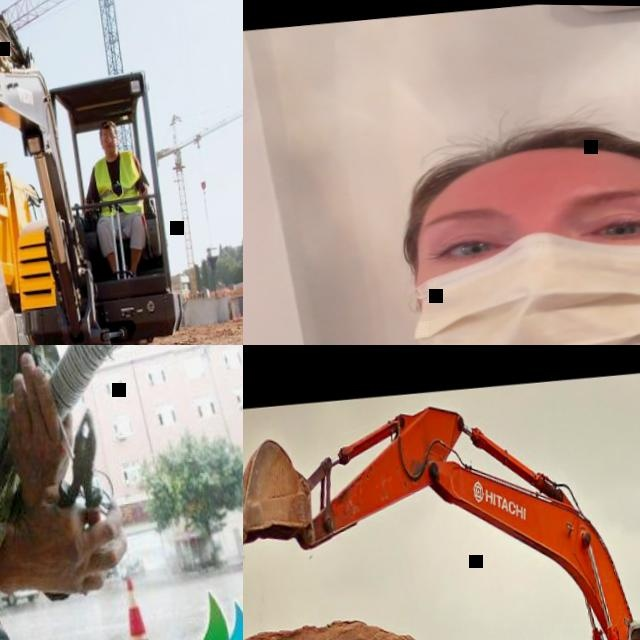Mask: (405, 227, 640, 345)
NO-Hardhat: (399, 112, 640, 216), (99, 117, 115, 129)
NO-Mask: (104, 141, 118, 156)
NO-Safety Vest: (0, 345, 84, 640), (91, 148, 144, 211)
Person: (243, 89, 640, 345), (0, 345, 183, 640), (73, 113, 158, 278)
Safety Cone: (116, 569, 157, 640)
machinery: (243, 365, 640, 640), (0, 0, 243, 345), (0, 57, 70, 345)
vehicle: (0, 569, 41, 609)
